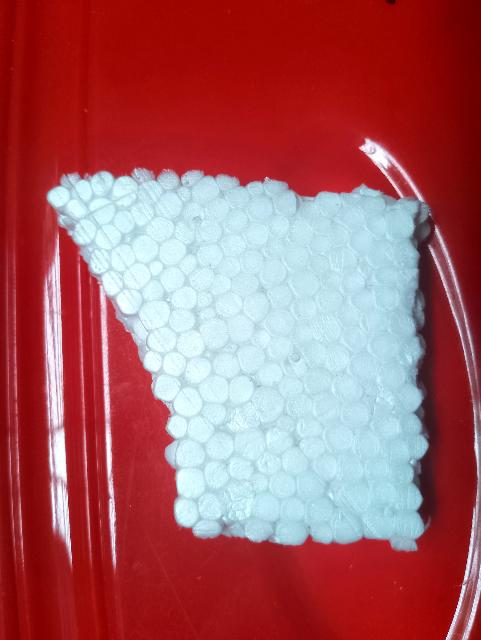cocksheet: (136, 156, 446, 547)
